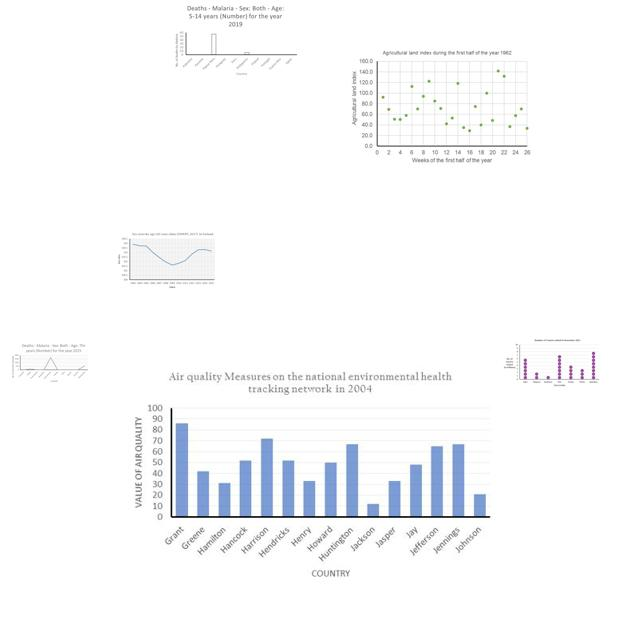Graph: (121, 366, 497, 588), (348, 48, 534, 167), (172, 3, 299, 77), (115, 231, 216, 290), (503, 338, 600, 388), (11, 343, 89, 383)
